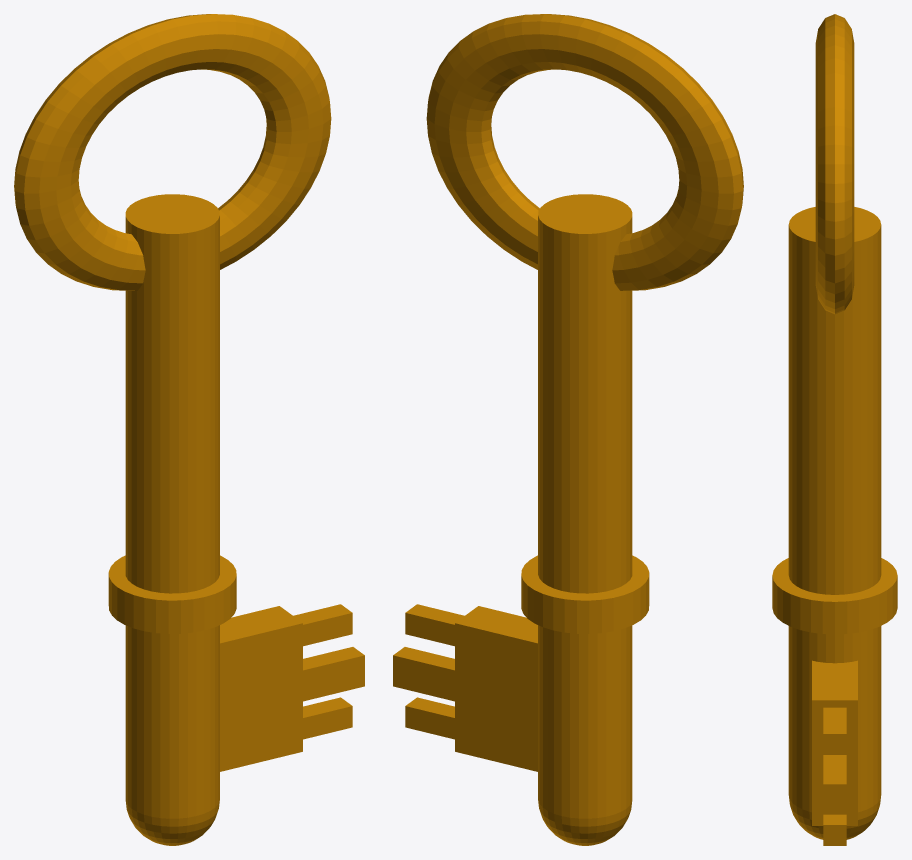
The model's file is key_model.fbx.
3 renders of one model, left to right at view 1: azimuth 30°, elevation 25°; view 2: azimuth 150°, elevation 25°; view 3: azimuth 270°, elevation 25°, orthographic. The views are drawn at different scales.
Visible parts, largest first — view 1: Cube.001; view 2: Cube.001; view 3: Cube.001.
Part boxes in pixels (left/top/right/bottom): Cube.001: left=14, top=14, right=364, bottom=845; Cube.001: left=393, top=14, right=743, bottom=845; Cube.001: left=772, top=14, right=897, bottom=845.
Size of the model in its own units: 168 by 384 by 54.21.
Materials: 1 (1 with a texture image).
